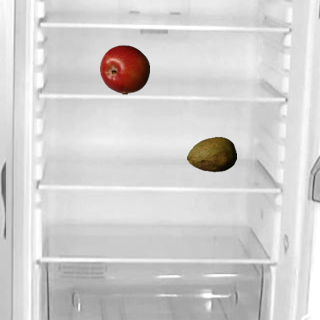Apple Braeburn: (99, 44, 149, 94)
Papaya: (186, 129, 236, 179)
